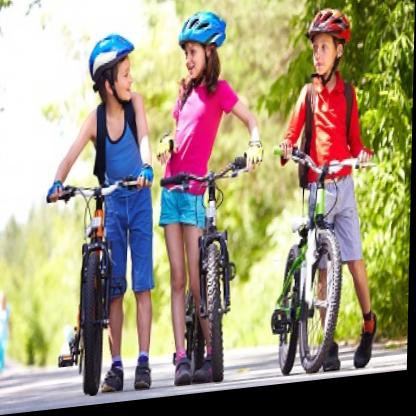With Helmet: (77, 30, 143, 118), (302, 8, 351, 96), (175, 5, 228, 85)
